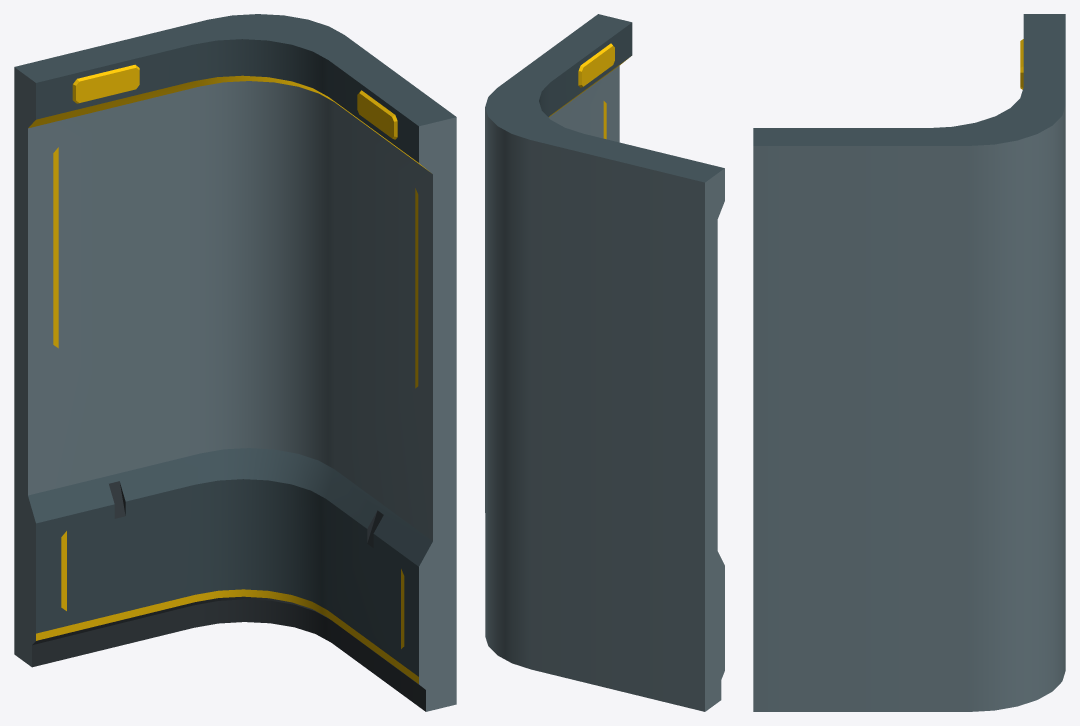
Rendered from Wall_type_C_068.fbx.
The picture shows the model from 3 angles, left to right: view 1: azimuth 30°, elevation 25°; view 2: azimuth 150°, elevation 25°; view 3: azimuth 270°, elevation 25°; orthographic projection. The views are drawn at different scales.
Visible parts, largest first — view 1: Wall_type_C_068; view 2: Wall_type_C_068; view 3: Wall_type_C_068.
Boxes of the visible parts, x1=… form: Wall_type_C_068: x1=14, y1=14, x2=456, y2=711; Wall_type_C_068: x1=485, y1=14, x2=724, y2=711; Wall_type_C_068: x1=753, y1=14, x2=1065, y2=711.
Bounding box in the file's own units: 200 × 200 × 400.
